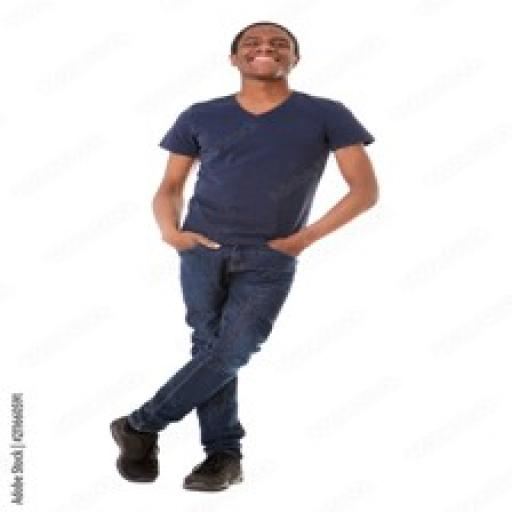human: (94, 12, 397, 498)
